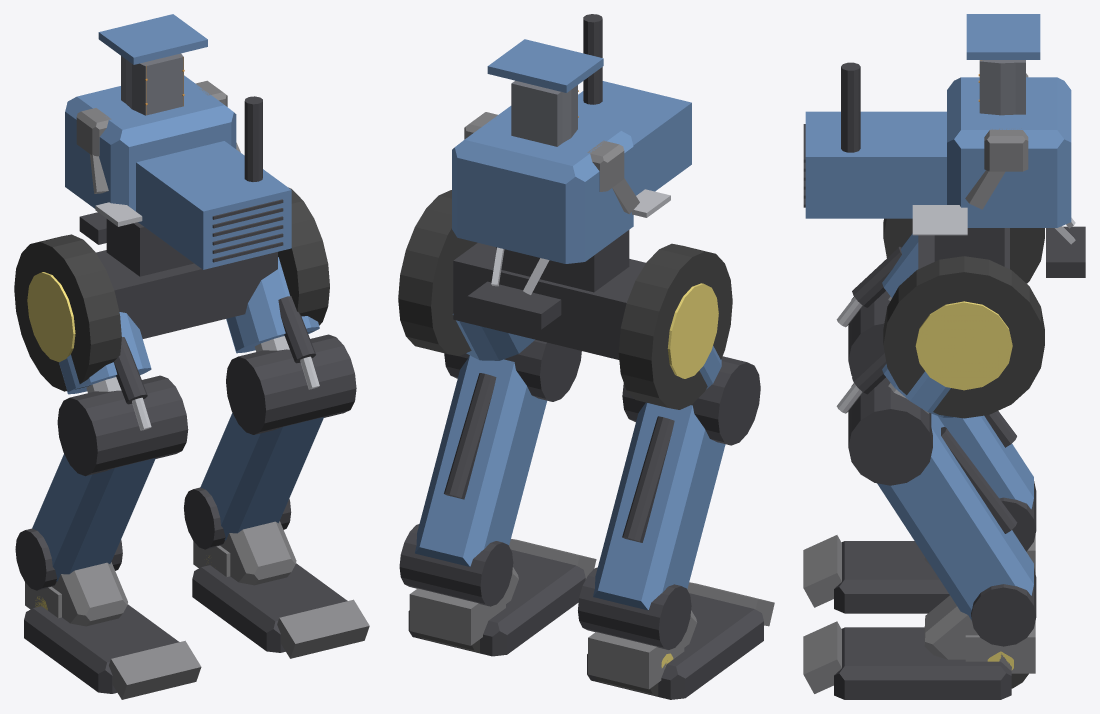
File: ploughman.glb
3 views of the same model, side by side, from view 1: azimuth 30°, elevation 25°; view 2: azimuth 150°, elevation 25°; view 3: azimuth 270°, elevation 25° (orthographic). The views are drawn at different scales.
Visible parts, largest first — view 1: bonnet, cab_base, hub-1, knee-1, knee1, hips, shin-1, shin1, foot1_sole, foot-1_sole, hub1, foot-1_toe (+20 smaller); view 2: cab_base, shin1, shin-1, hub-1, hips, hub1, bonnet, foot-1_sole, foot1_sole, hock-1, hock1, knee-1 (+16 smaller); view 3: bonnet, cab_base, hub1, shin1, foot1_sole, foot-1_sole, knee1, rim1, shin-1, cab_roof, hock1, shell (+20 smaller).
Boxes of the visible parts, left/top/right/bottom form: bonnet: left=136, top=141, right=291, bottom=269; cab_base: left=65, top=75, right=236, bottom=211; hub-1: left=14, top=234, right=121, bottom=391; knee-1: left=57, top=375, right=188, bottom=476; knee1: left=226, top=334, right=356, bottom=434; hips: left=96, top=250, right=277, bottom=338; shin-1: left=32, top=454, right=155, bottom=581; shin1: left=200, top=413, right=323, bottom=540; foot1_sole: left=192, top=563, right=347, bottom=652; foot-1_sole: left=24, top=604, right=179, bottom=693; hub1: left=278, top=187, right=329, bottom=332; foot-1_toe: left=109, top=640, right=201, bottom=699; cab_base: left=452, top=106, right=633, bottom=263; shin1: left=415, top=355, right=546, bottom=566; shin-1: left=593, top=402, right=725, bottom=610; hub-1: left=618, top=243, right=732, bottom=409; hips: left=453, top=243, right=645, bottom=359; hub1: left=398, top=190, right=477, bottom=356; bonnet: left=578, top=81, right=691, bottom=195; foot-1_sole: left=587, top=593, right=763, bottom=699; foot1_sole: left=408, top=549, right=585, bottom=656; hock-1: left=578, top=567, right=691, bottom=649; hock1: left=399, top=524, right=513, bottom=606; knee-1: left=622, top=356, right=760, bottom=445; bonnet: left=805, top=111, right=946, bottom=218; cab_base: left=947, top=77, right=1071, bottom=227; hub1: left=883, top=256, right=1044, bottom=418; shin1: left=877, top=413, right=1033, bottom=620; foot1_sole: left=834, top=627, right=1011, bottom=699; foot-1_sole: left=834, top=541, right=949, bottom=613; knee1: left=848, top=377, right=932, bottom=485; rim1: left=915, top=301, right=1012, bottom=390; shin-1: left=938, top=415, right=1033, bottom=509; cab_roof: left=966, top=14, right=1040, bottom=59; hock1: left=971, top=568, right=1036, bottom=646; shell: left=979, top=60, right=1025, bottom=115.
Bounding box in the file's own units: 11.8 × 24.62 × 10.47.
